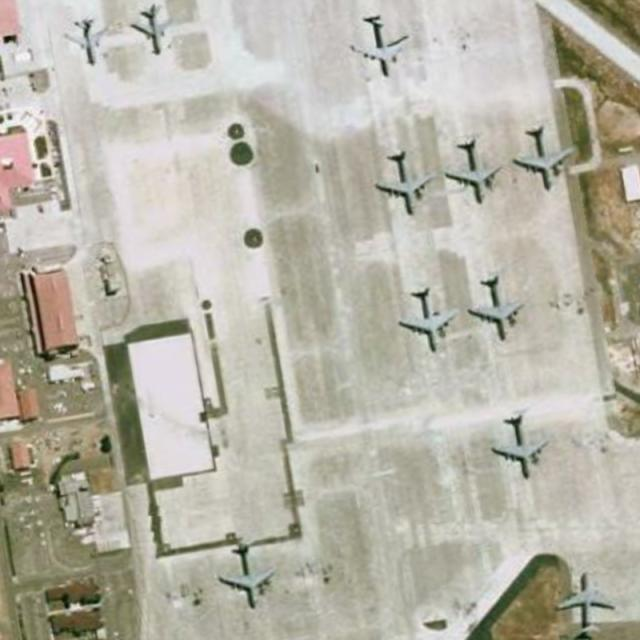fighter jet: (515, 123, 573, 189), (499, 413, 552, 482), (469, 276, 524, 341), (351, 14, 406, 78), (402, 287, 453, 351), (222, 544, 272, 606), (564, 569, 612, 630), (382, 151, 428, 213), (456, 139, 496, 206), (129, 7, 174, 58), (68, 19, 105, 64)
